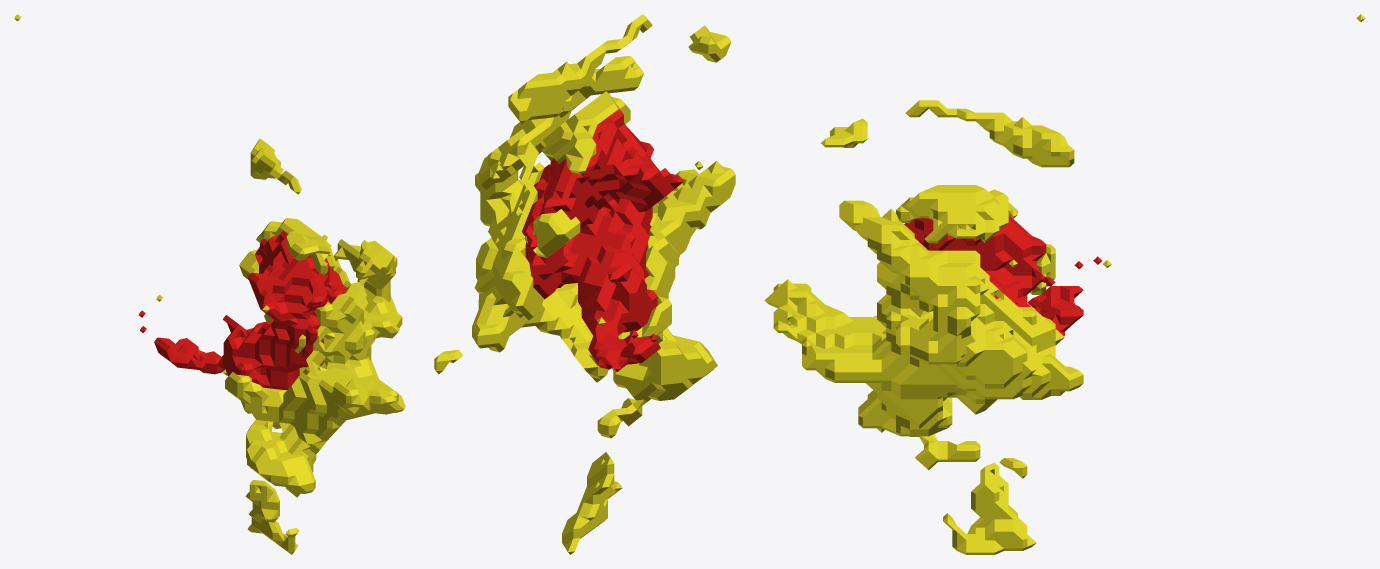
Rendered from tumor_mesh.obj.
3 views of the same model, side by side, from view 1: azimuth 30°, elevation 25°; view 2: azimuth 150°, elevation 25°; view 3: azimuth 270°, elevation 25° (orthographic). The views are drawn at different scales.
Parts seen in each view (by area): view 1: edema, necrotic; view 2: edema, necrotic; view 3: edema, necrotic.
Part boxes in pixels (box(x1,y1,x2,y2)): edema: box(14, 14, 405, 554); necrotic: box(138, 230, 346, 390); edema: box(434, 14, 735, 554); necrotic: box(522, 109, 683, 371); edema: box(764, 14, 1365, 554); necrotic: box(904, 215, 1102, 335).
Size of the model in its own units: 28 by 57 by 64.
